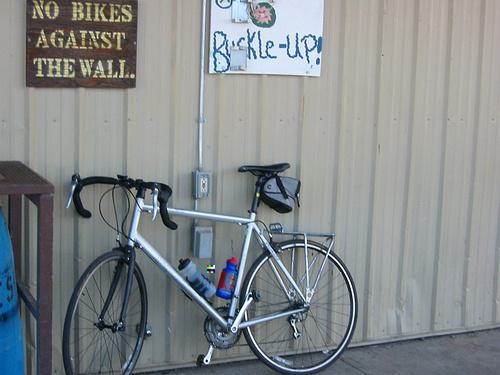car: (64, 163, 359, 375)
